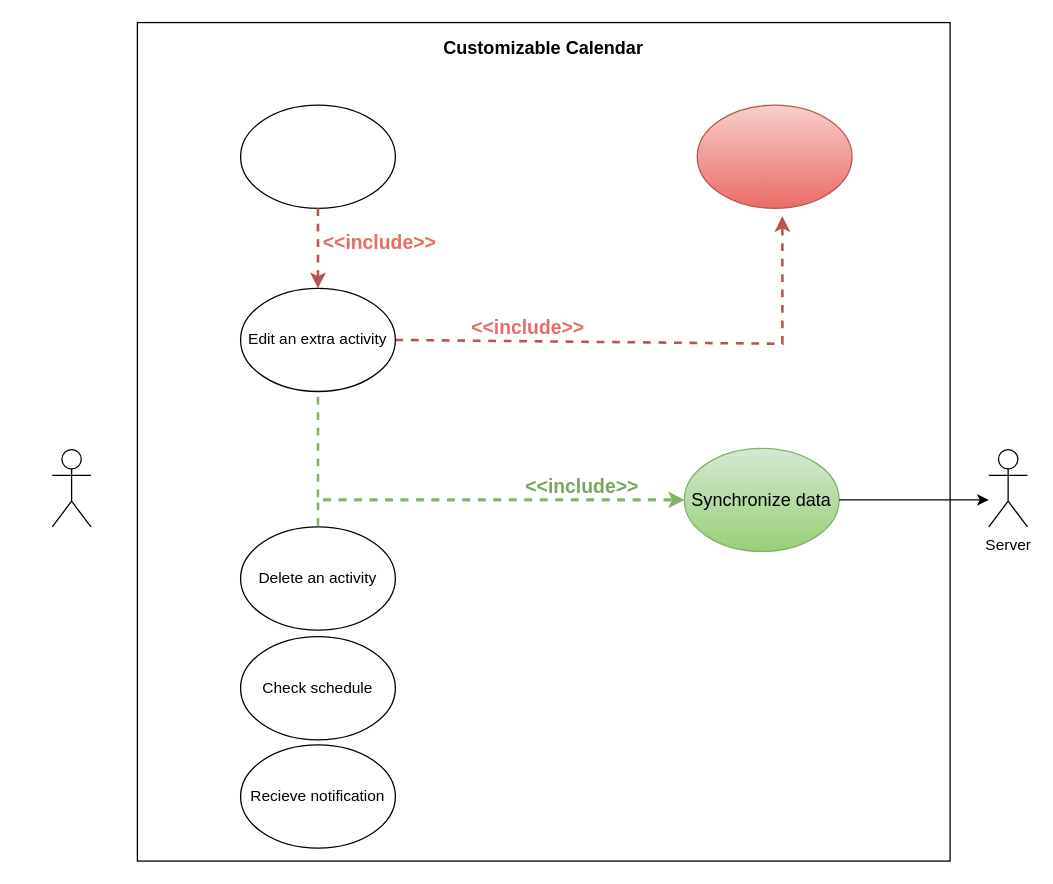
Image size: 1053x884. Some labels were removed from this diagram. The centre of each missing label's shape, as x and y in pixels:
"Add an extra activity" goes at (317,156).
"FEUP Student" goes at (71,487).
"Set activity fields" goes at (774,156).
